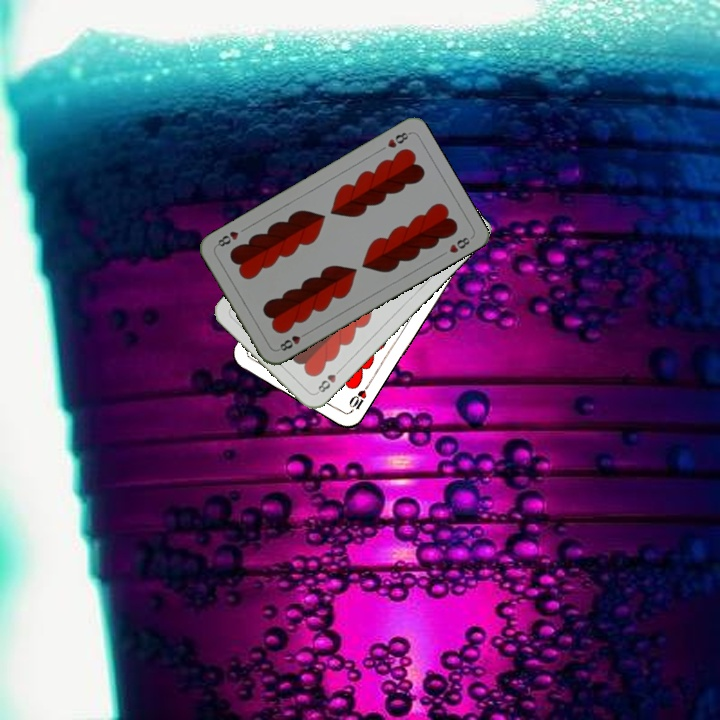H10: (345, 379, 372, 416)
H8: (313, 364, 344, 396), (274, 328, 311, 354), (383, 128, 413, 151)
